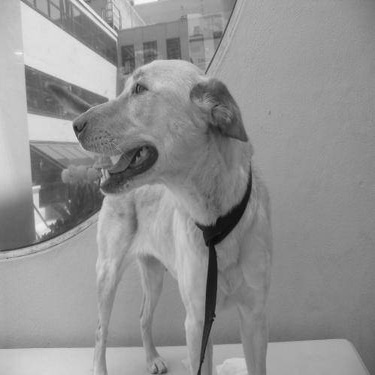dog: (59, 51, 280, 373)
